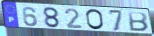2: (64, 8, 84, 29)
6: (22, 6, 39, 27)
7: (108, 9, 125, 32)
8: (42, 7, 61, 29)
B: (128, 11, 150, 33)
O: (85, 9, 106, 31)
